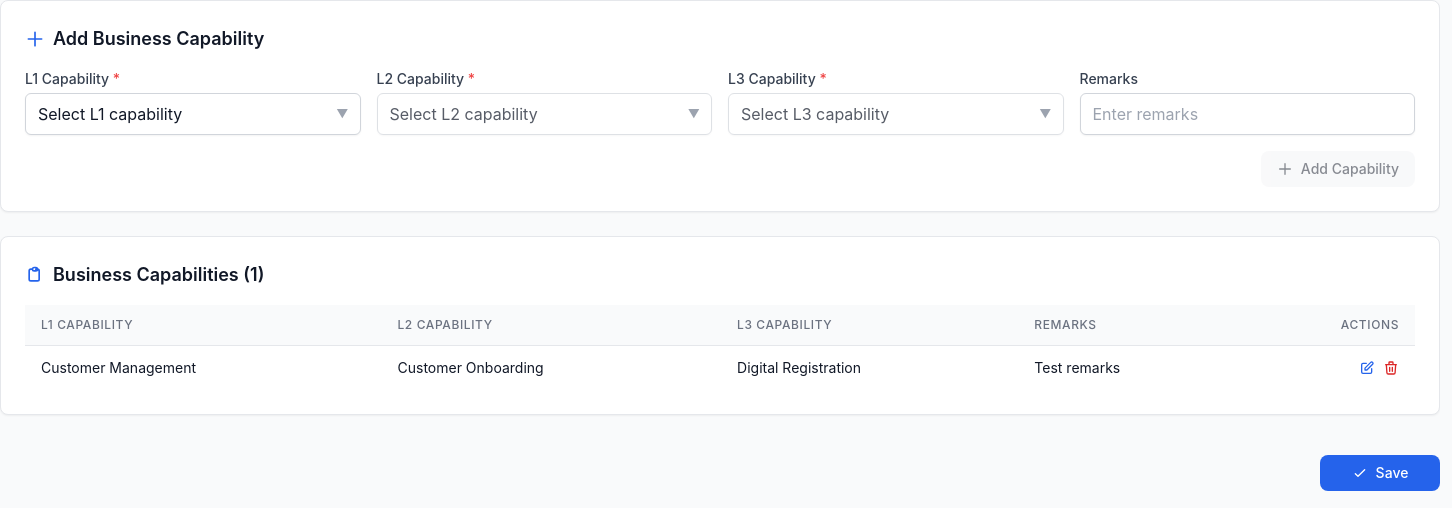
Test case: BusinessCapabilitiesStep › Edit Capability Functionality › enters edit mode when edit button clicked
Click the button titled "Edit": click(1367, 368) [1359,360,1375,376]
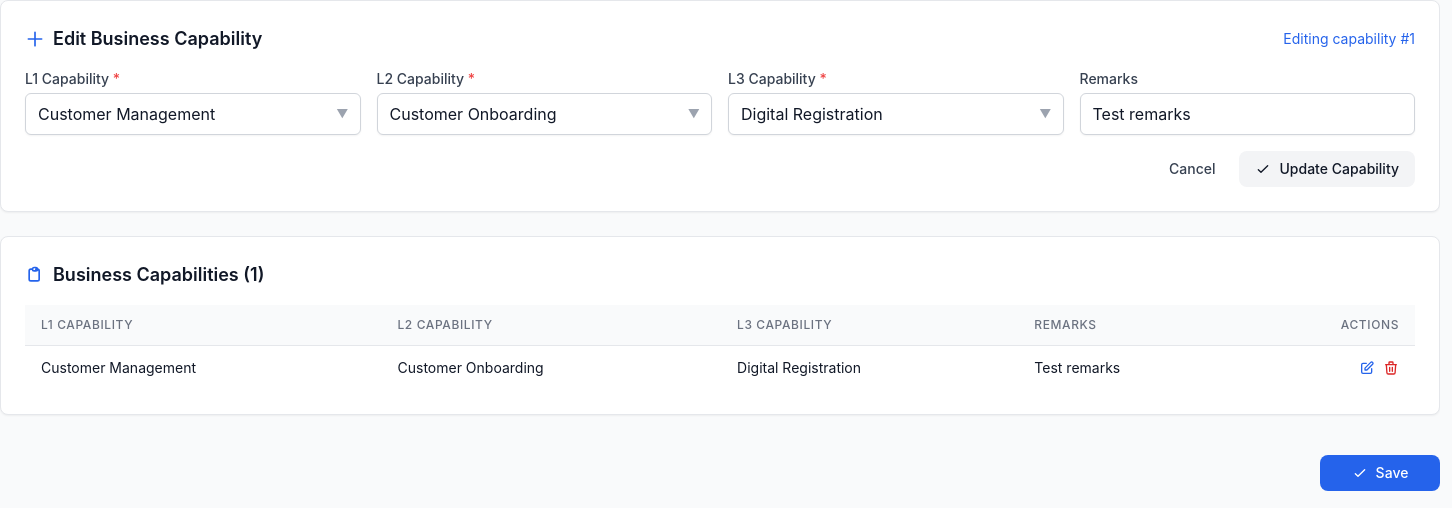
Expected: the text "Edit Business Capability" is shown, [25,25,262,53]
